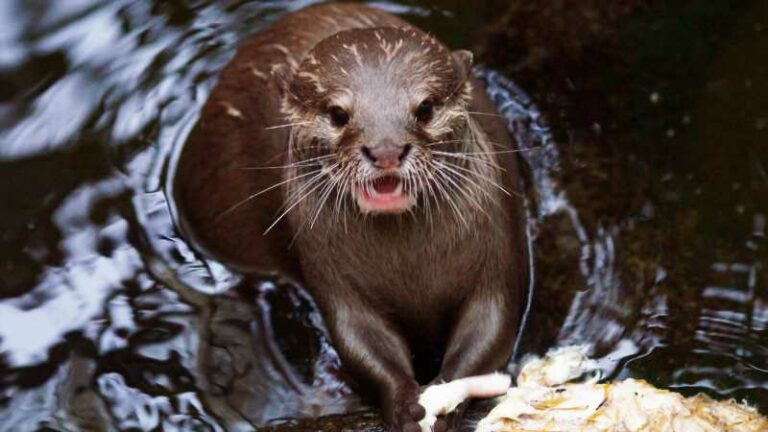otter: (165, 5, 538, 423)
